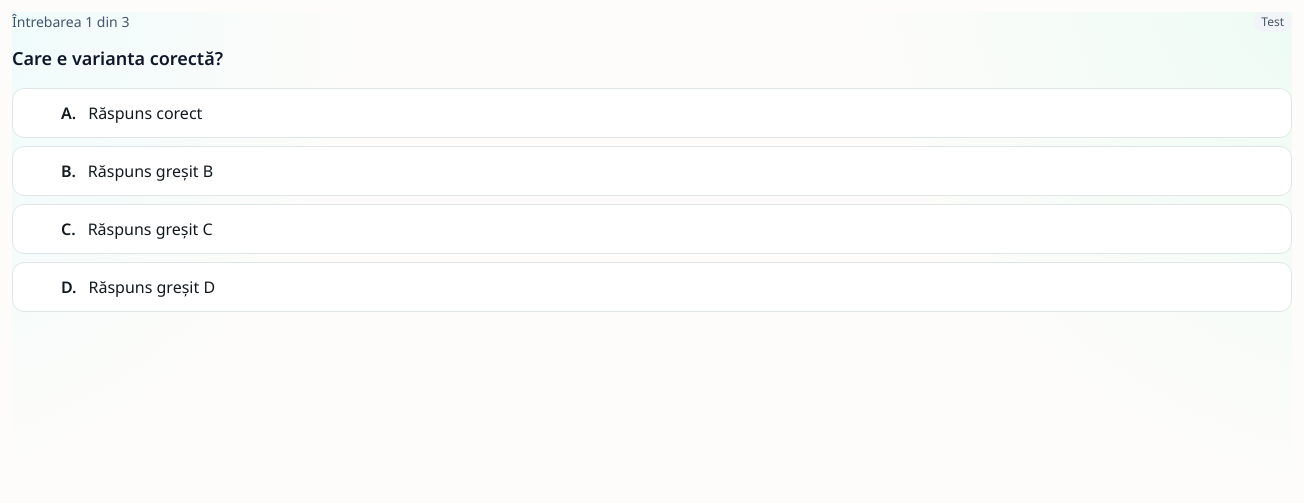
Test: QuestionCard - single › blochează la click pe o variantă single
Click the text "Răspuns corect". click: (145, 113)
box: [88,102,202,124]
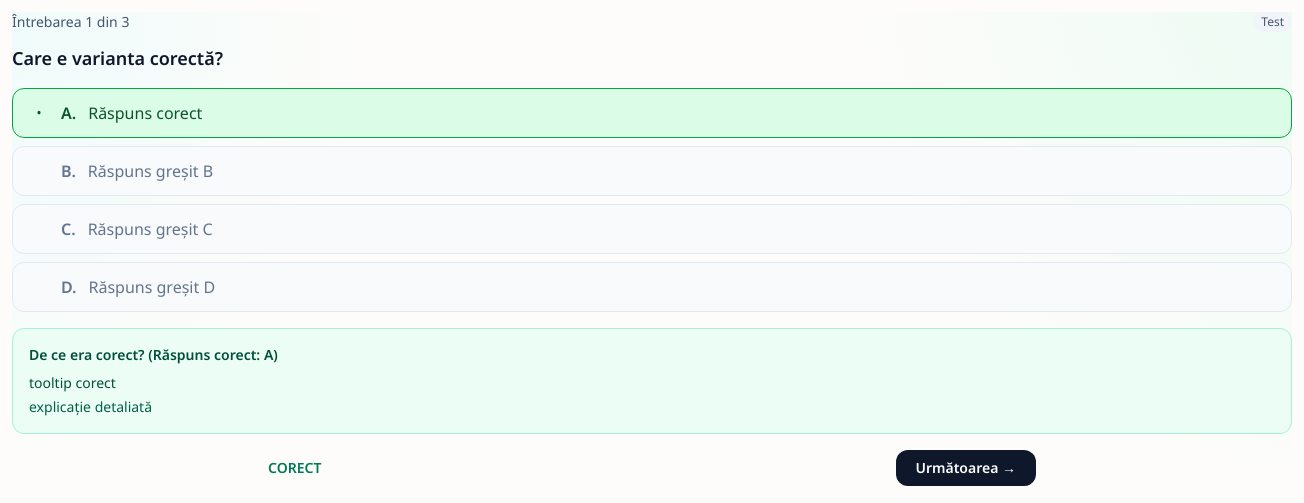
Expected: the text "De ce era corect? (Răspuns corect: A)" is shown, [29,345,278,364]
Expected: the text "tooltip corect" is shown, [29,373,116,392]
